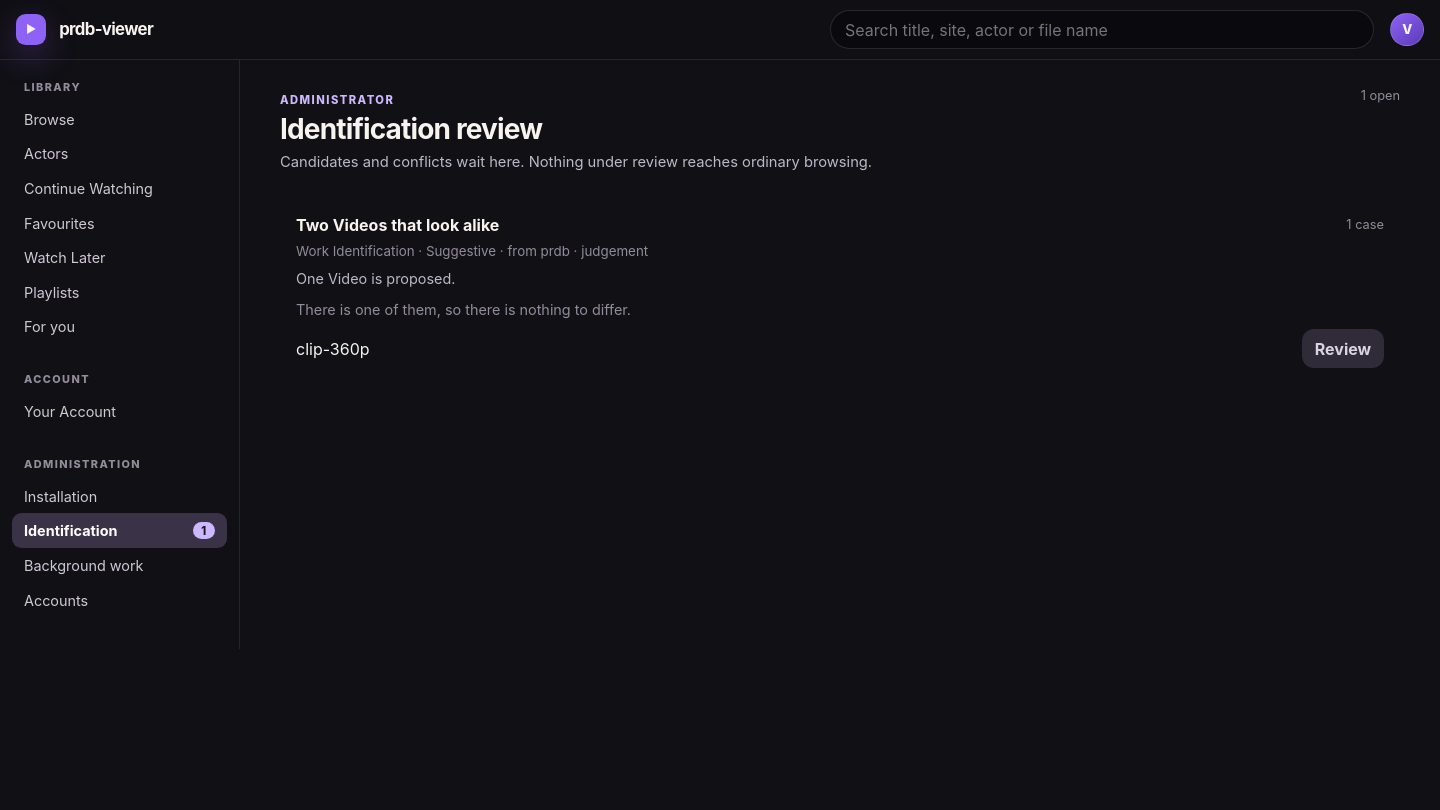
Scenario: App › decides a proposed association between two Videos that identifies neither
The width and height of the screenshot is (1440, 810).
Expected: the text "Two Videos that look alike" is shown, [296, 215, 499, 235]
Click the button "Review" at (1343, 349), box [1302, 329, 1384, 368]
(page scrolled)
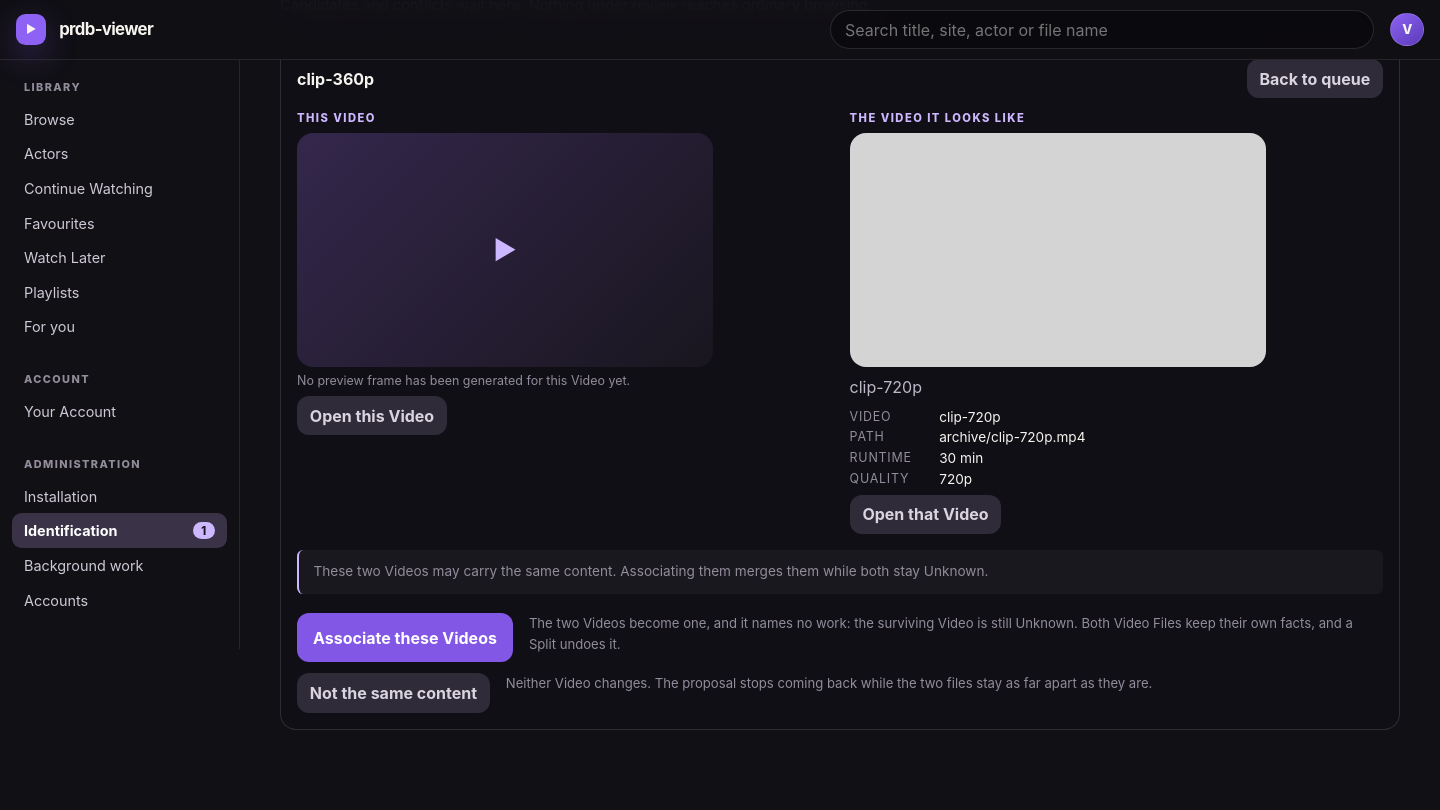
Expected: the text "The Video it looks like" is shown, [850, 111, 1025, 125]
Expected: the text "still Unknown" is shown, [529, 615, 1353, 652]
Click the button "Associate these Videos" at (405, 638), box [297, 613, 513, 662]
(page scrolled)
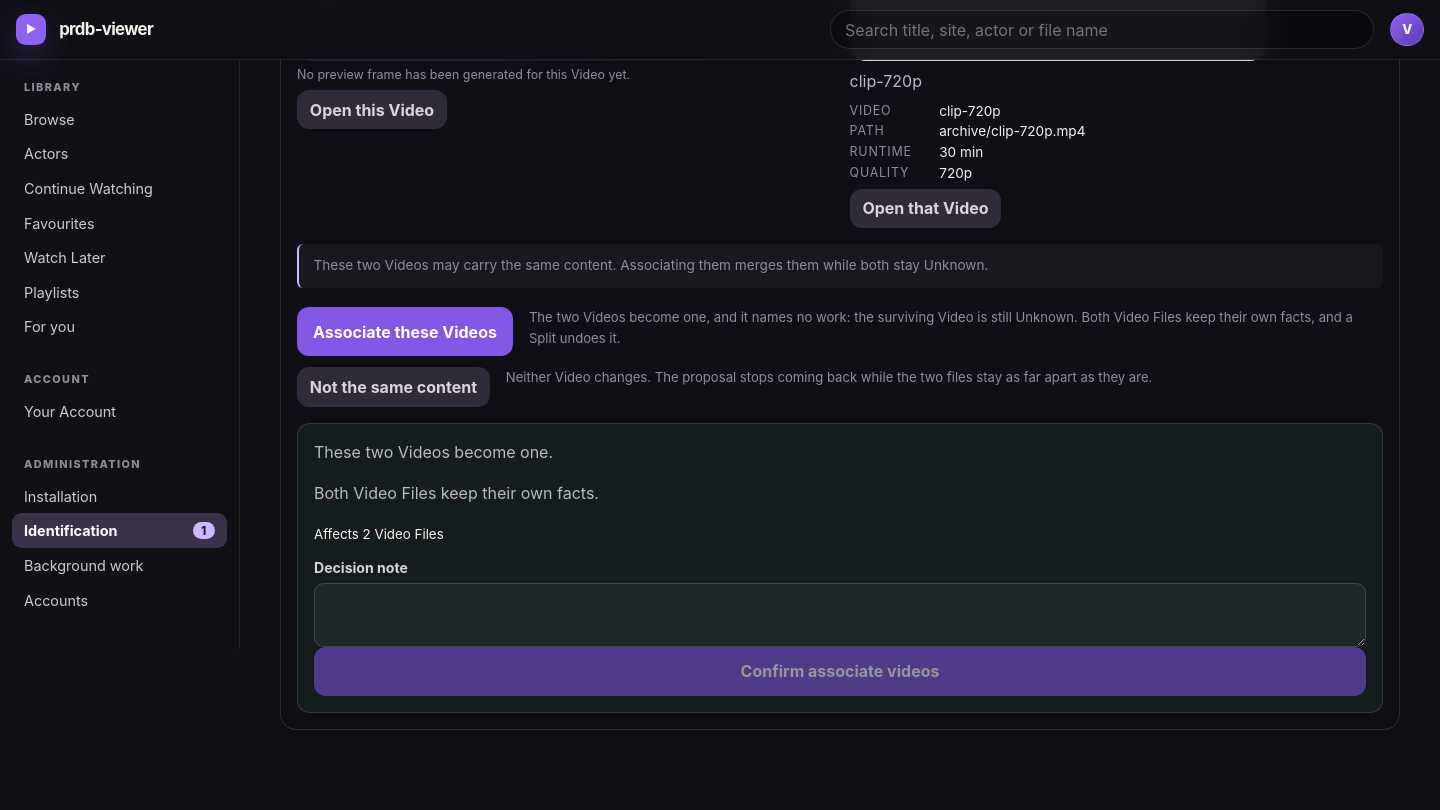
Expected: the element named "Consequence preview" shows "These two Videos become one.", [314, 442, 553, 462]
Expected: the text box labelled "Decision note" is shown, [314, 583, 1366, 647]
